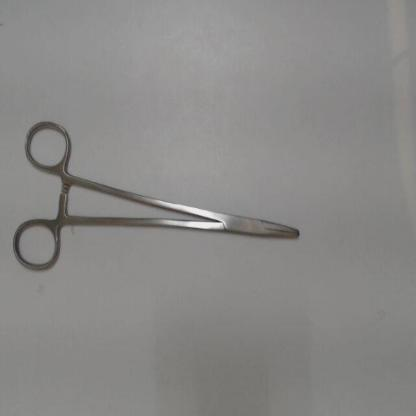8 Mayo Needle Holder: (9, 110, 309, 279)
